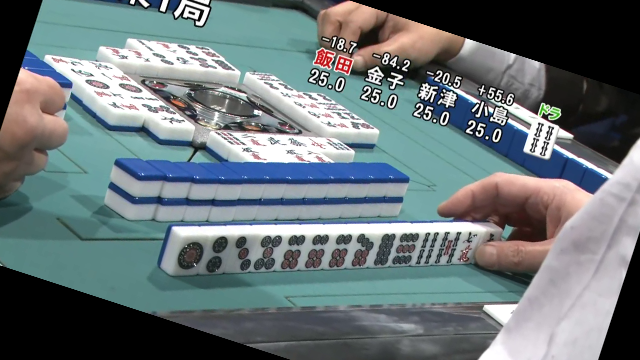Tehai: (169, 222, 509, 274)
